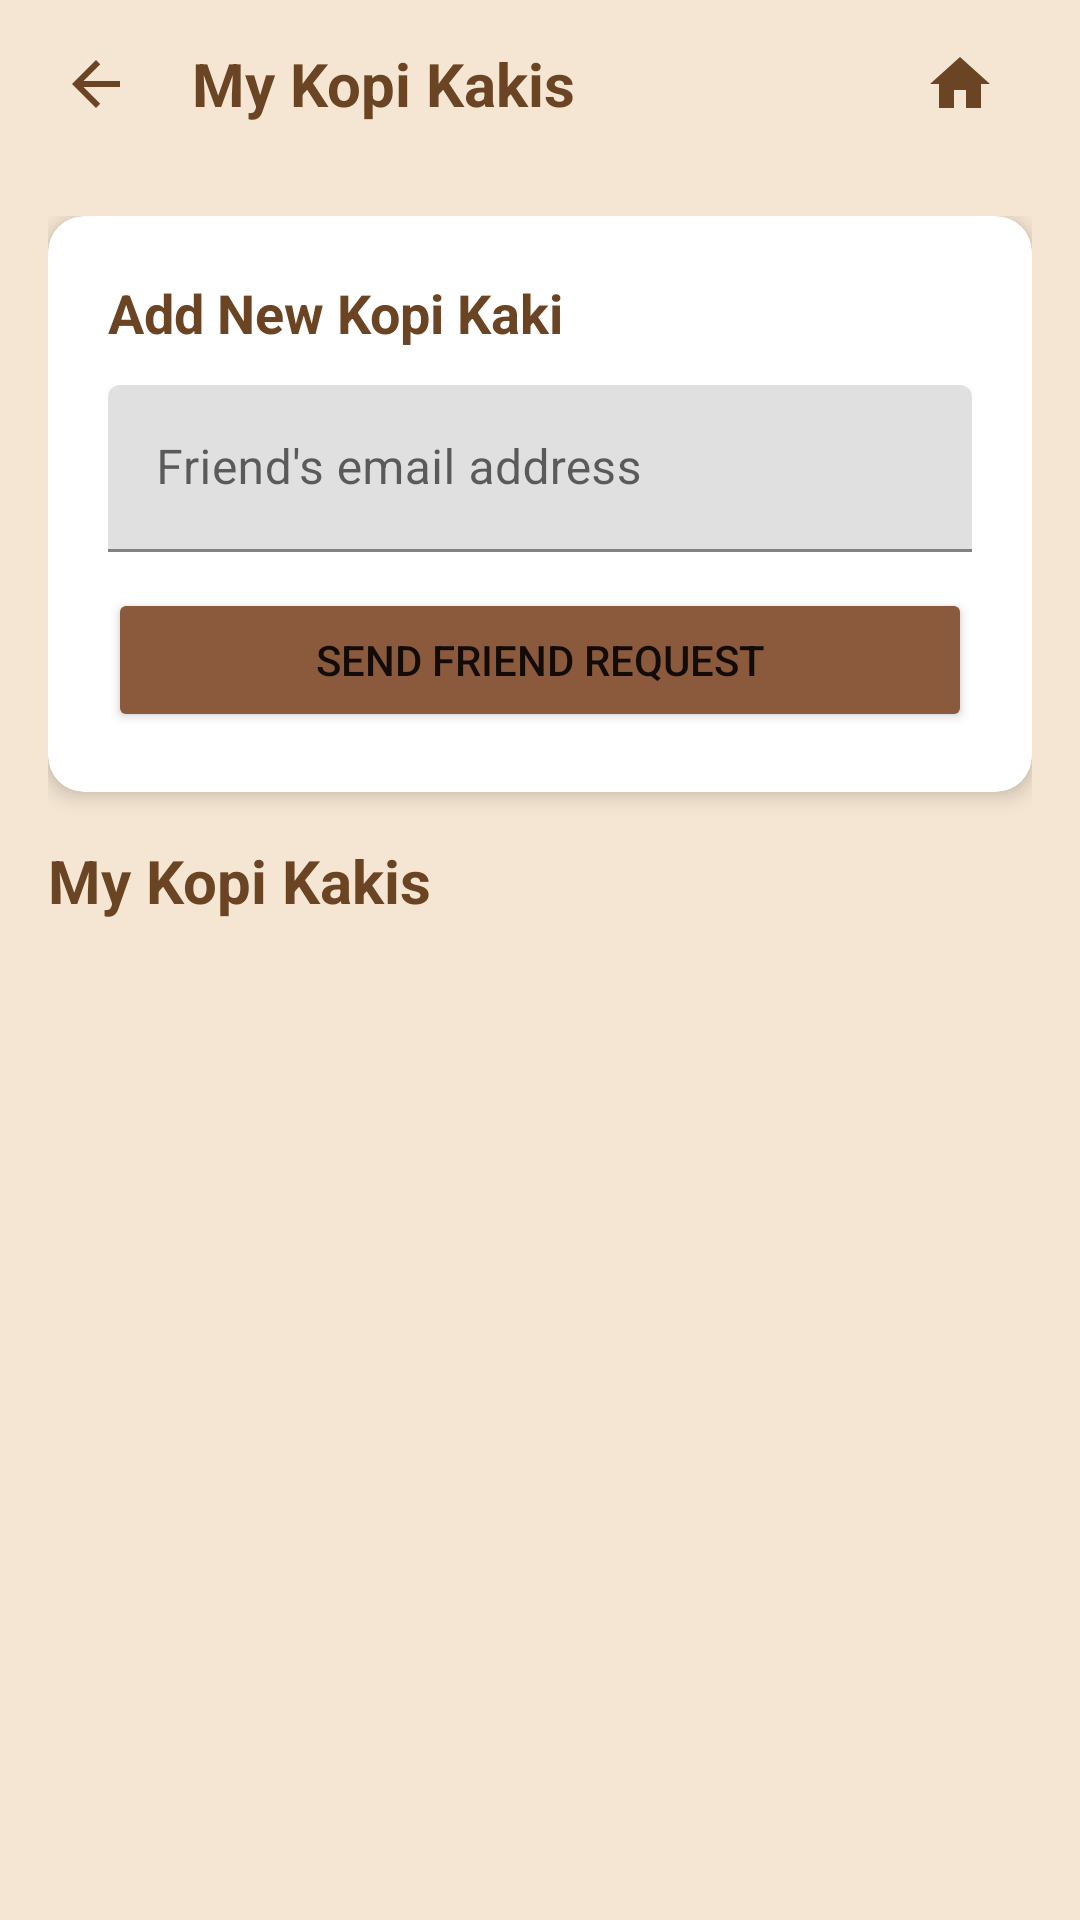

Screen size 1080*1920. Icon name, then its box in pixels as (x1, y1, x2, y2):
Back: (72, 60, 120, 108)
Home: (930, 57, 990, 108)
